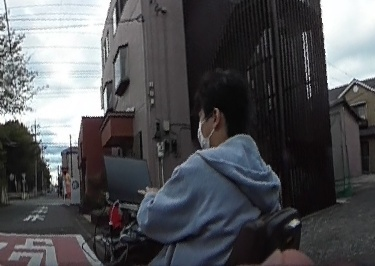person: (131, 58, 277, 266)
